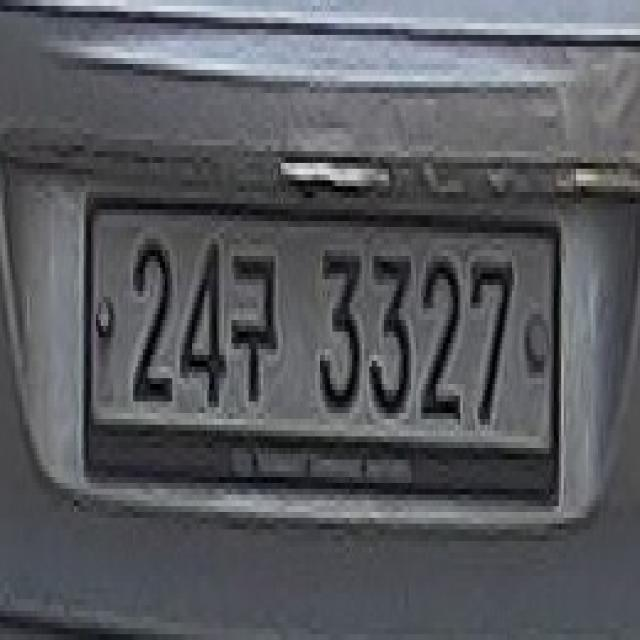2: (120, 224, 175, 408), (420, 235, 464, 425)
3: (304, 234, 364, 418), (364, 235, 414, 424)
4: (178, 223, 229, 414)
7: (468, 240, 520, 430)
gu: (232, 226, 284, 420)
license_plate: (90, 210, 561, 460)
